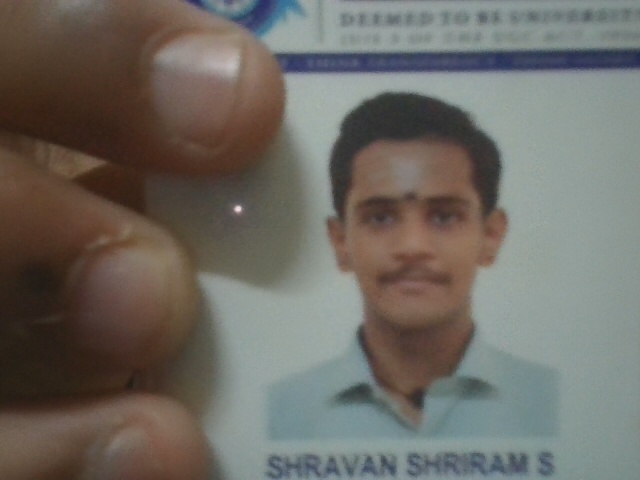fake: (318, 143, 503, 328)
